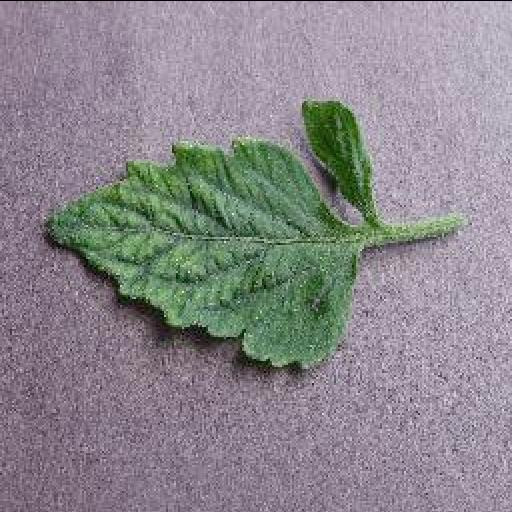Mosaic Virus: (36, 138, 364, 368), (296, 94, 372, 218)
